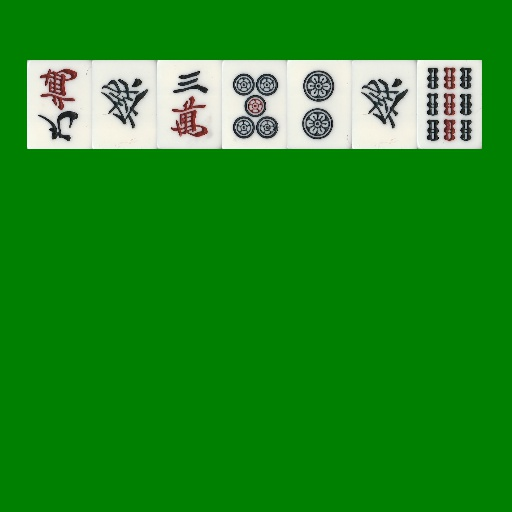2p: (287, 60, 352, 149)
3m: (157, 60, 222, 149)
5p: (222, 60, 287, 149)
9m: (27, 60, 92, 149)
9s: (417, 60, 482, 149)
hatsu: (92, 60, 157, 149), (352, 60, 417, 149)
